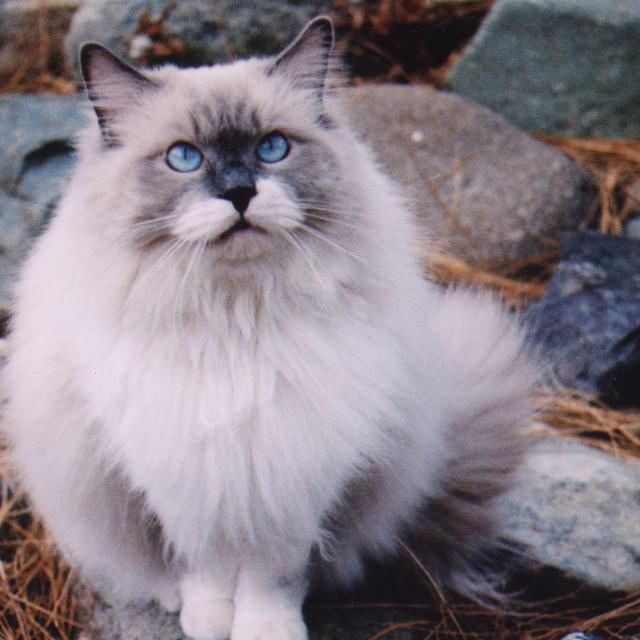animals: (86, 17, 324, 208)
